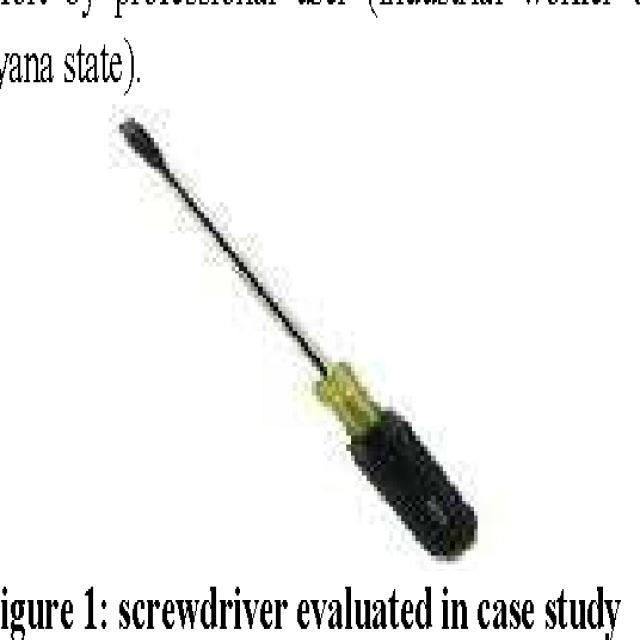screwdriver: (113, 93, 480, 569)
